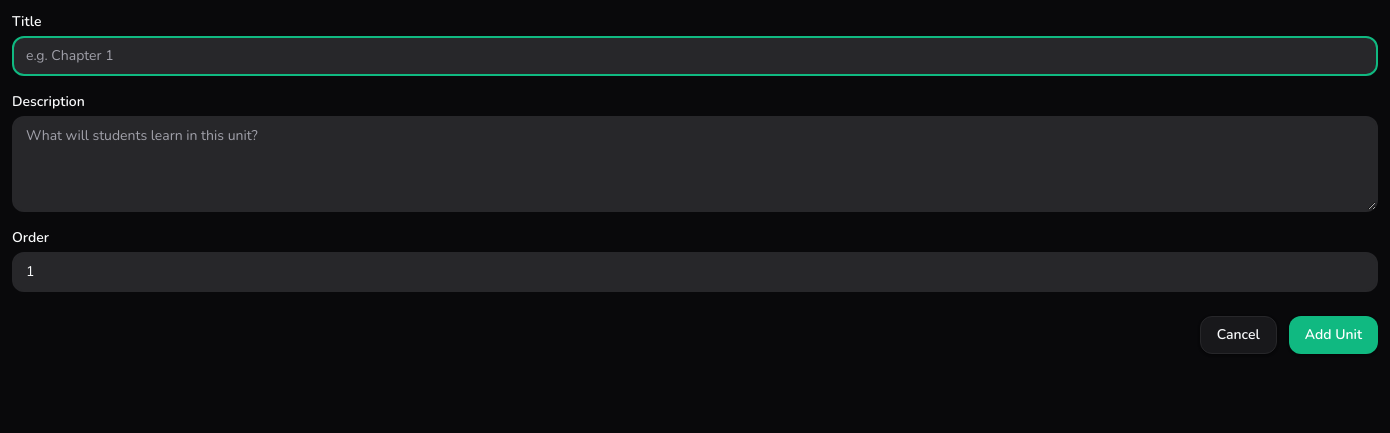
Test: UnitForm › shows description required error when description is empty on submit
Type "My Unit" into the field labelled "Title" at (695, 56), box [12,36,1378,76]
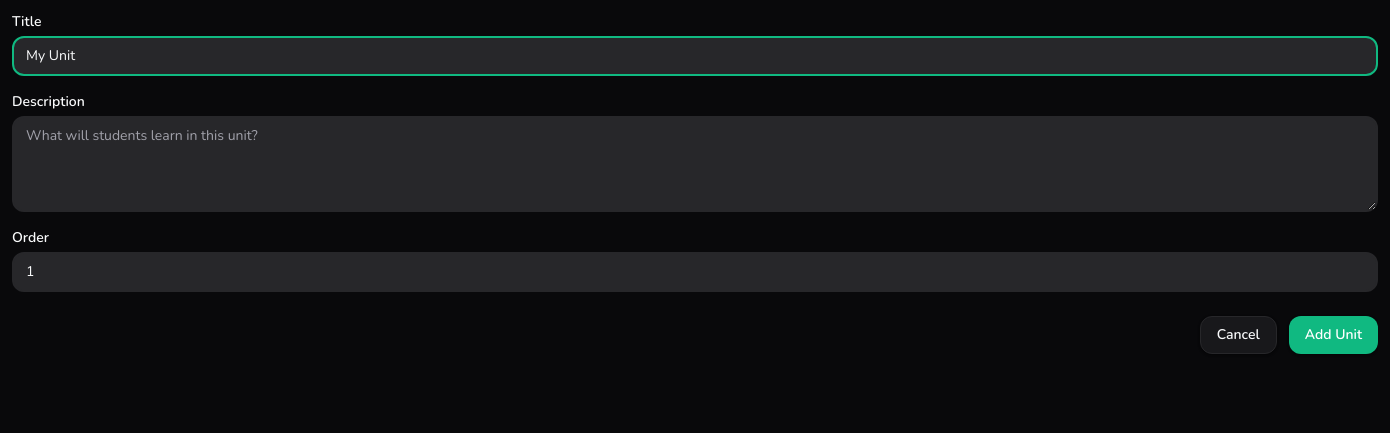
Submit the form "Title Description Order Cancel Add Unit"
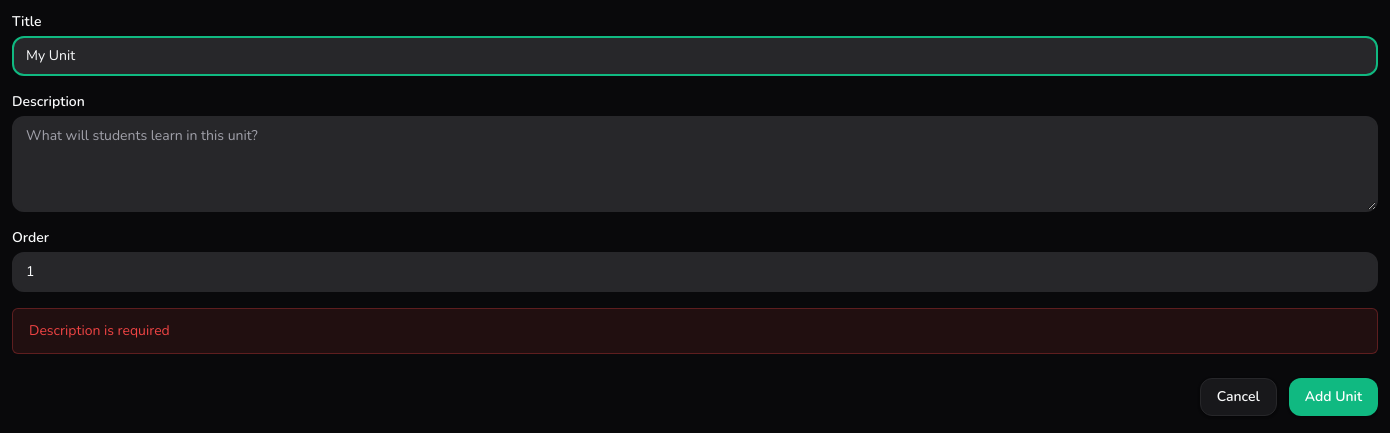
Expected: the text "Description is required" is shown, [12,308,1378,354]
